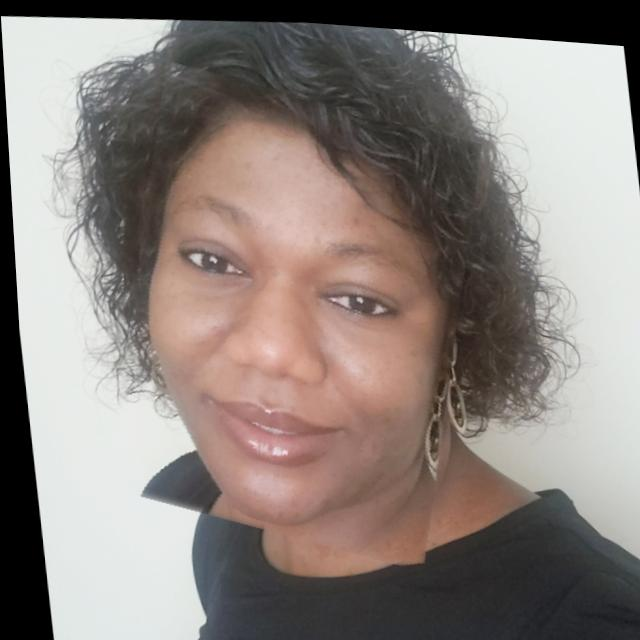happy: (84, 54, 498, 569)
